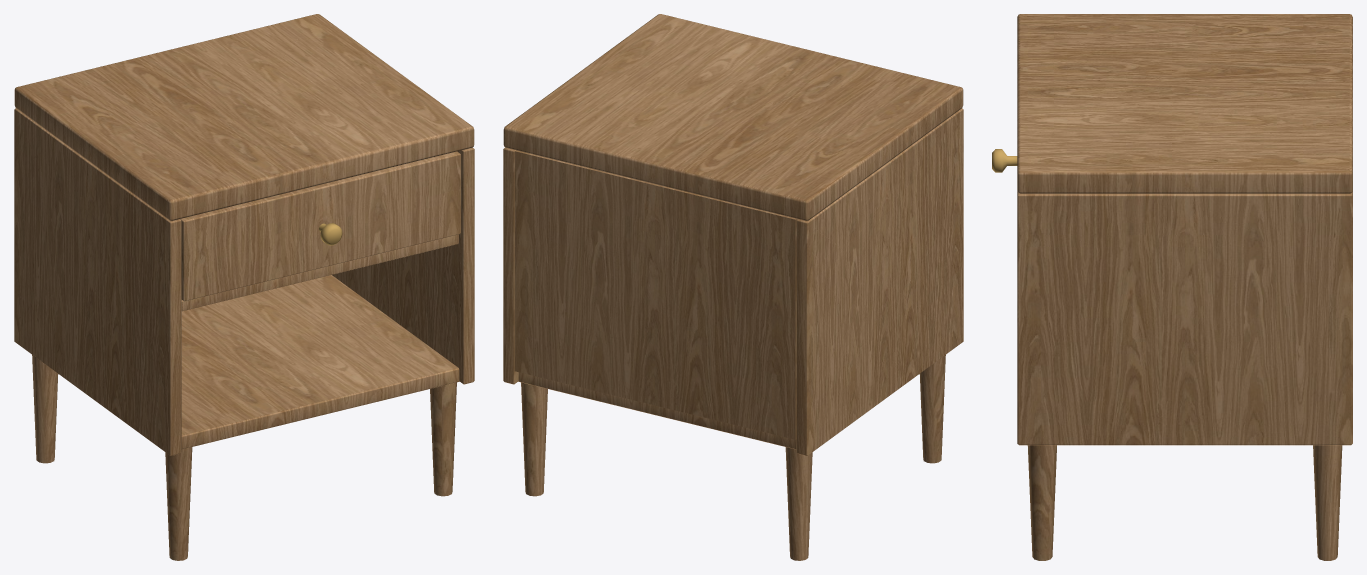
Rendered from ap_nightstand.fbx.
The picture shows the model from 3 angles, left to right: view 1: azimuth 30°, elevation 25°; view 2: azimuth 150°, elevation 25°; view 3: azimuth 270°, elevation 25°; orthographic projection. The views are drawn at different scales.
Visible parts, largest first — view 1: ap_nightstand, drawer; view 2: ap_nightstand; view 3: ap_nightstand.
Boxes of the visible parts, x1,y1,x2,y2 form: ap_nightstand: (14, 14, 474, 560); drawer: (180, 151, 460, 301); ap_nightstand: (503, 14, 963, 560); ap_nightstand: (1017, 14, 1352, 560).
Size of the model in its own units: 0.45 by 0.52 by 0.43.
Materials: 2 (1 with a texture image).
